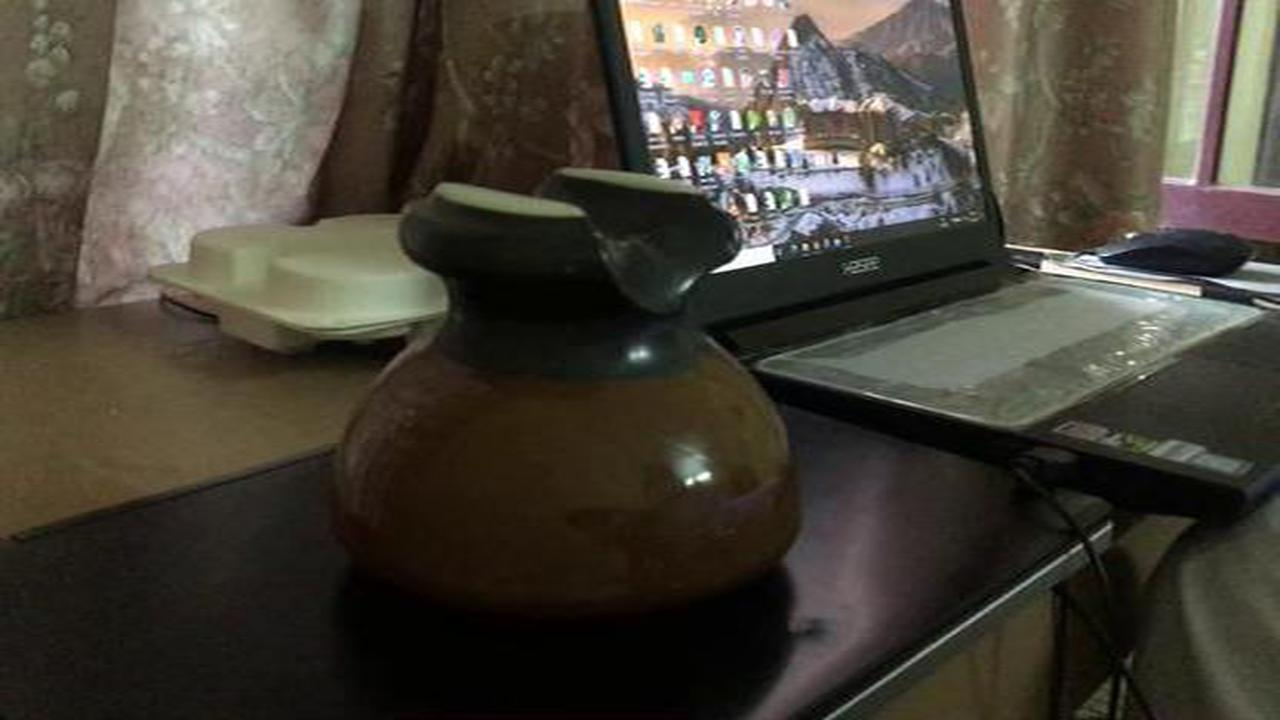insulator_pin: (308, 141, 828, 636)
